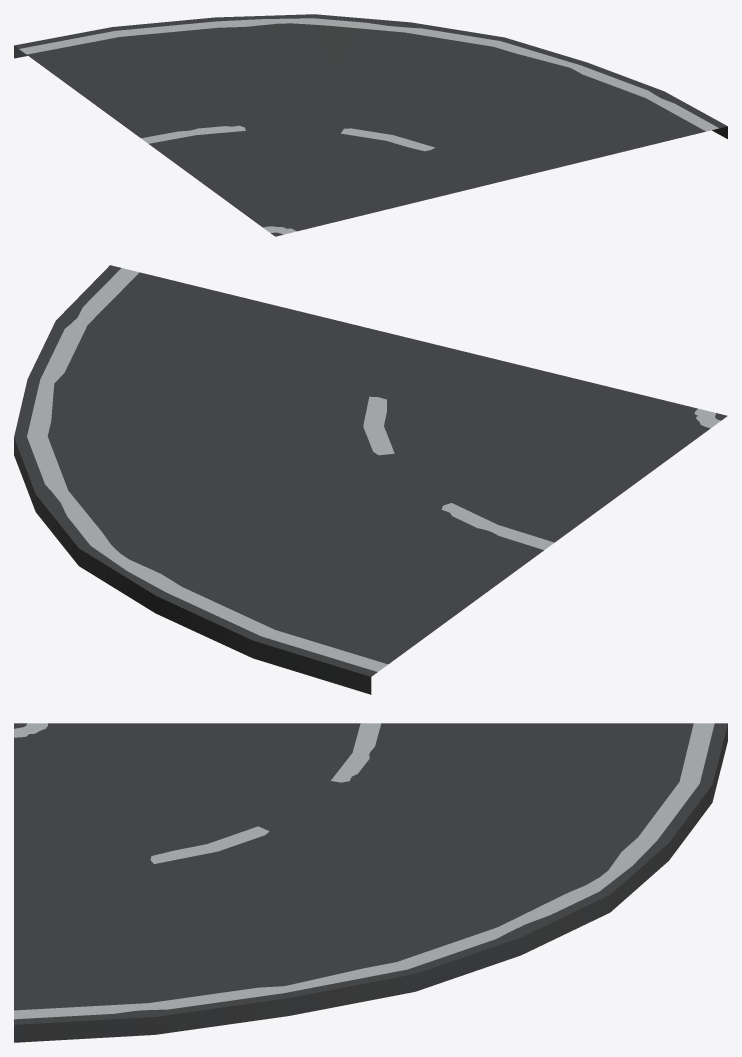
File: 20C_BG_Road_Conner_10M.fbx
The picture shows the model from 3 angles, top to bottom: view 1: azimuth 30°, elevation 25°; view 2: azimuth 150°, elevation 25°; view 3: azimuth 270°, elevation 25°; orthographic projection. The views are drawn at different scales.
Parts seen in each view (by area): view 1: 20C_BG_Road_Conner_10M; view 2: 20C_BG_Road_Conner_10M; view 3: 20C_BG_Road_Conner_10M.
Boxes of the visible parts, x1,y1,x2,y2 form: 20C_BG_Road_Conner_10M: (14,14,727,236); 20C_BG_Road_Conner_10M: (14,265,727,694); 20C_BG_Road_Conner_10M: (14,723,727,1042).
Size of the model in its own units: 99.99 by 2.85 by 99.99.
